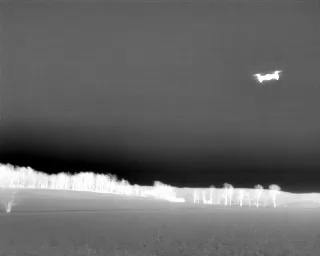DRONE: (250, 65, 286, 88)
